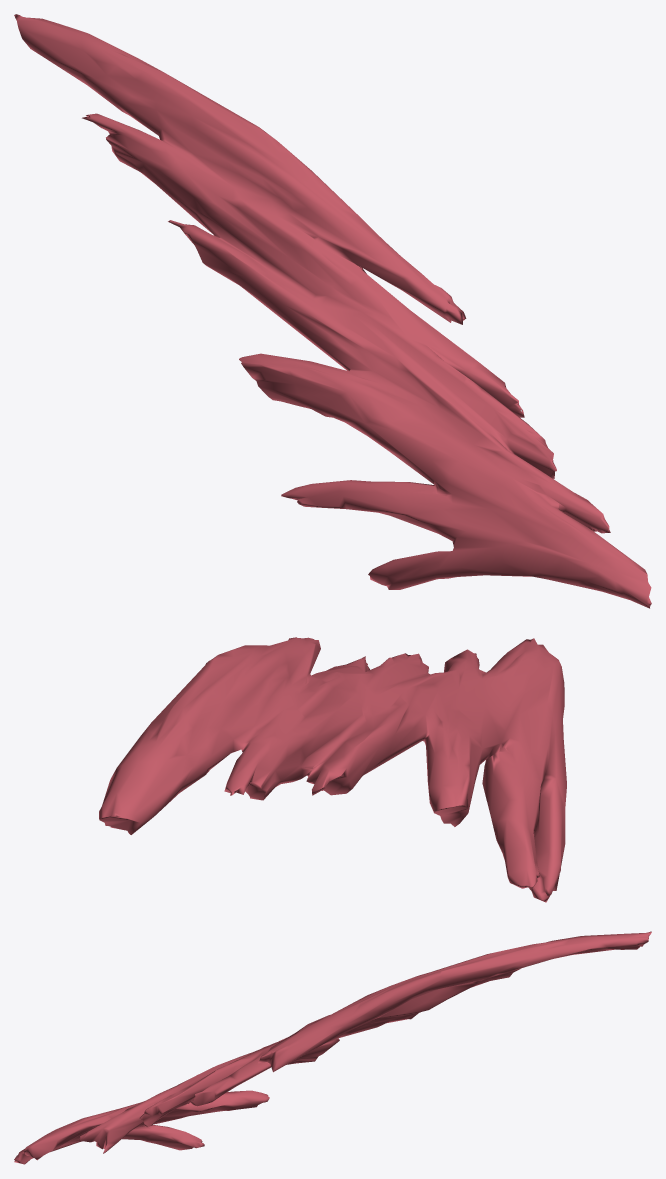
3 views of the same model, one above another, from view 1: azimuth 30°, elevation 25°; view 2: azimuth 150°, elevation 25°; view 3: azimuth 270°, elevation 25° (orthographic). The views are drawn at different scales.
Visible parts, largest first — view 1: 右侧颈半棘肌; view 2: 右侧颈半棘肌; view 3: 右侧颈半棘肌.
Part boxes in pixels (box(x1,y1,x2,y2)): 右侧颈半棘肌: box(14, 14, 651, 608); 右侧颈半棘肌: box(99, 637, 566, 902); 右侧颈半棘肌: box(14, 931, 651, 1164).
Size of the model in its own units: 0.05 by 0.0777 by 0.2099.
